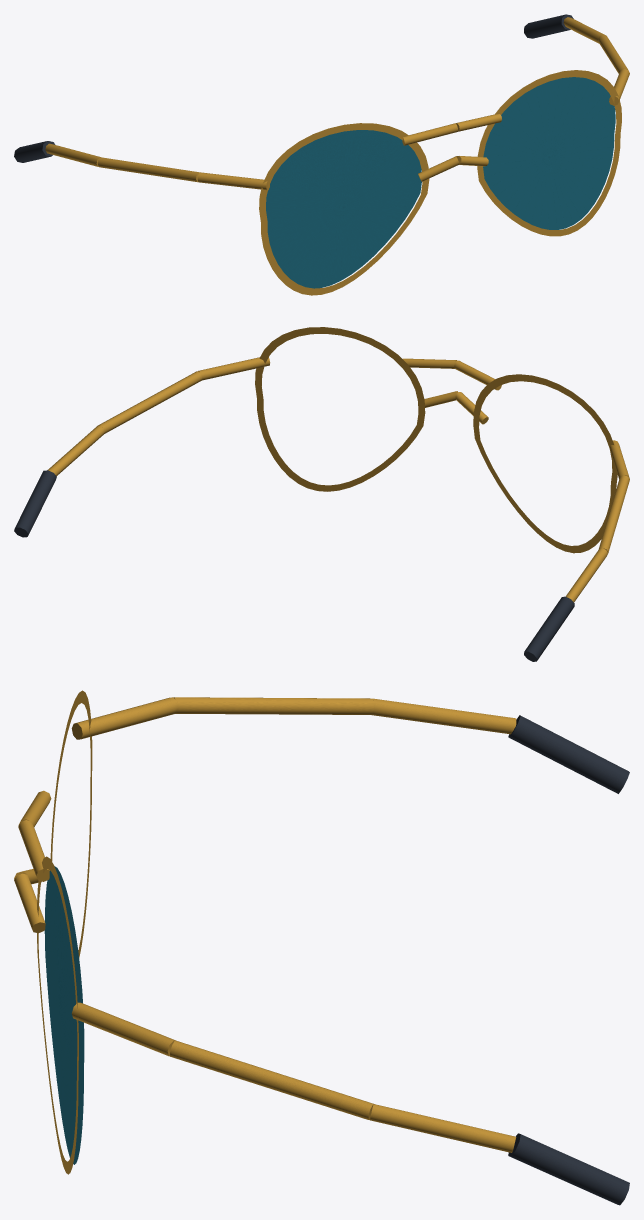
File: reference_aviators.gltf
3 views of the same model, one above another, from view 1: azimuth 30°, elevation 25°; view 2: azimuth 150°, elevation 25°; view 3: azimuth 270°, elevation 25° (orthographic). The views are drawn at different scales.
Visible parts, largest first — view 1: Aviators; view 2: Aviators; view 3: Aviators.
Part boxes in pixels (x1=…): Aviators: x1=14, y1=14, x2=629, y2=295; Aviators: x1=14, y1=327, x2=629, y2=661; Aviators: x1=14, y1=690, x2=629, y2=1205.
Bounding box in the file's own units: 0.456 × 0.136 × 0.2762.
Materials: 3 (3 with a texture image).
